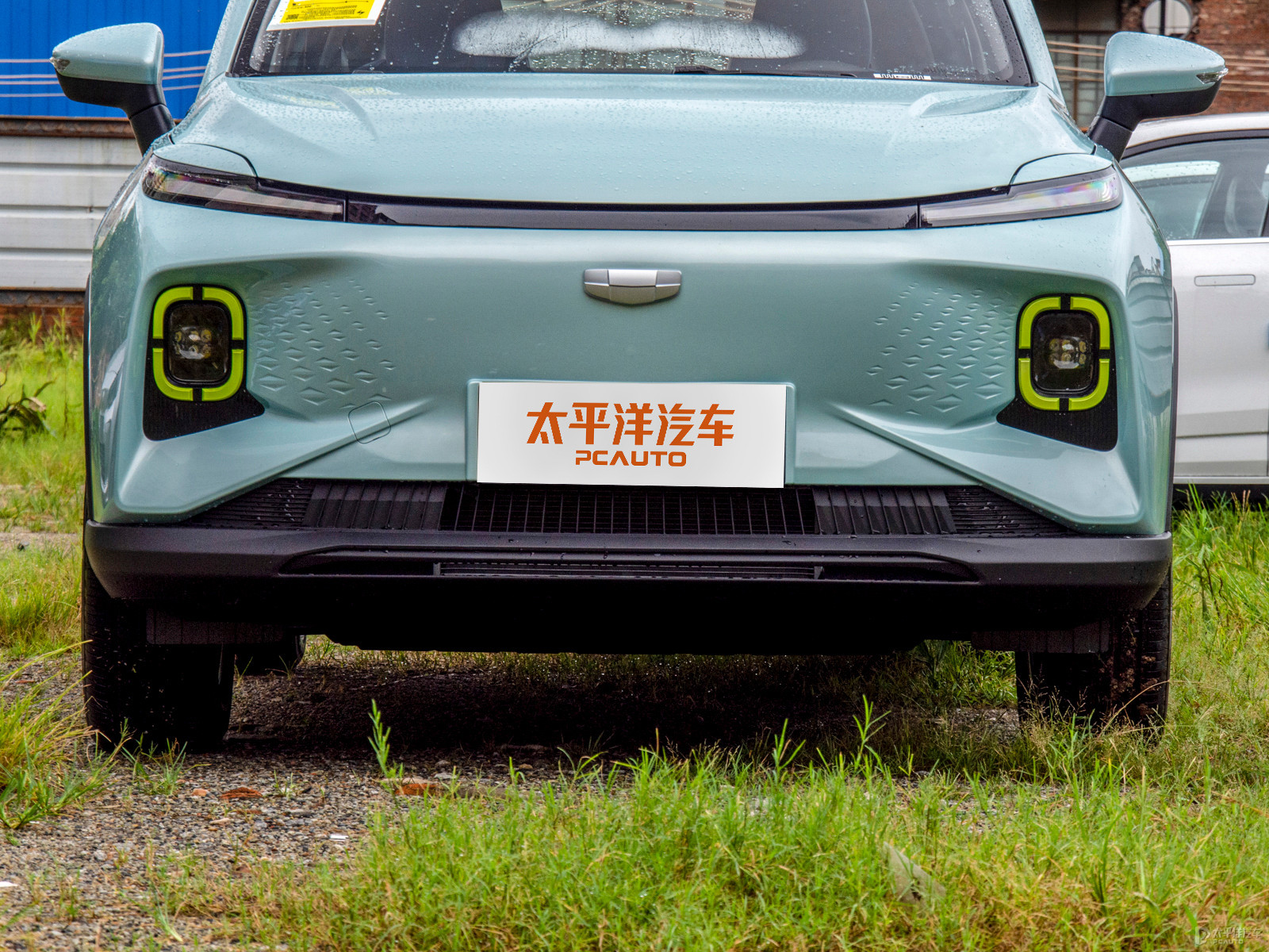GEOMETRY: (585, 270, 681, 304)
